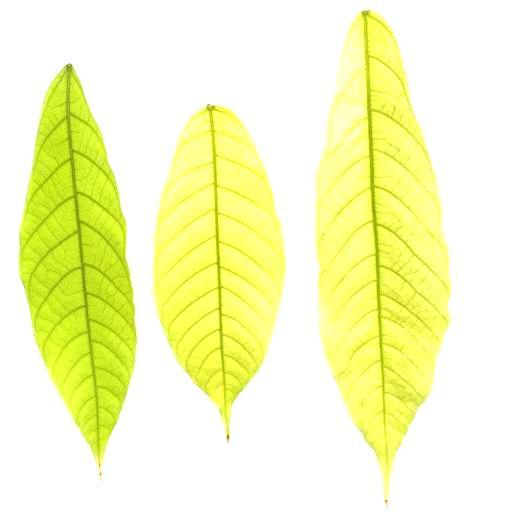Iron: (316, 11, 450, 501), (19, 64, 136, 468), (154, 105, 284, 439)
